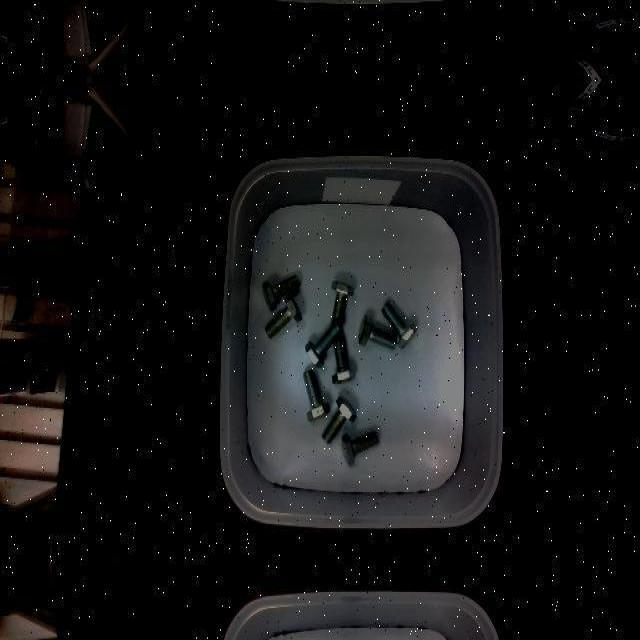screw: (303, 322, 343, 368), (264, 293, 302, 339), (381, 300, 417, 348), (322, 395, 356, 445), (262, 273, 301, 311), (341, 428, 380, 466), (303, 368, 329, 422), (358, 315, 396, 349), (331, 333, 355, 383)
